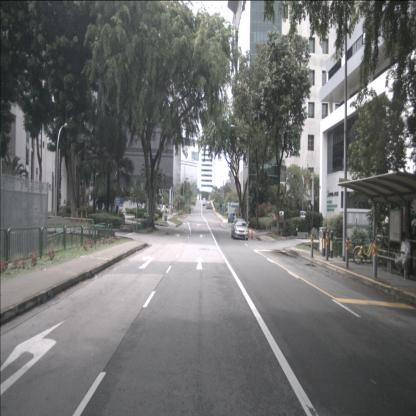cone: (250, 230, 254, 239), (247, 230, 250, 238)
